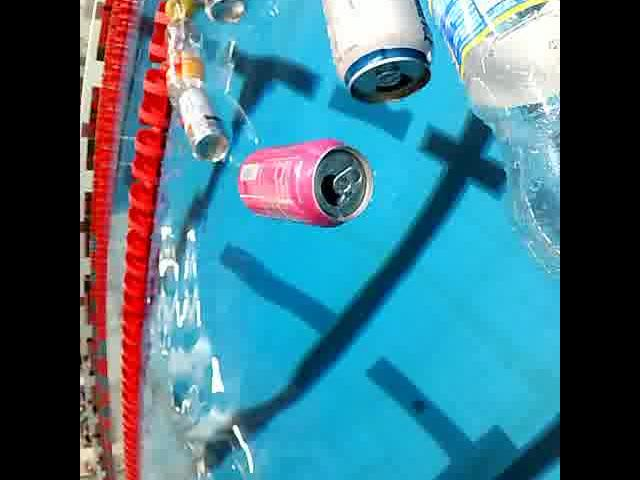Bottle: (421, 0, 560, 282), (162, 16, 204, 124)
Can: (228, 135, 380, 232), (306, 0, 440, 110), (180, 82, 228, 160), (198, 0, 252, 25), (164, 0, 212, 24)
